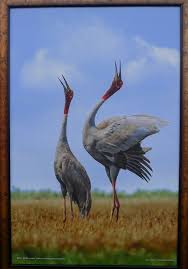seu_dau_do: (83, 58, 168, 215), (52, 73, 92, 220)
